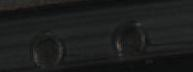joints: (111, 16, 148, 58), (27, 28, 65, 68)
